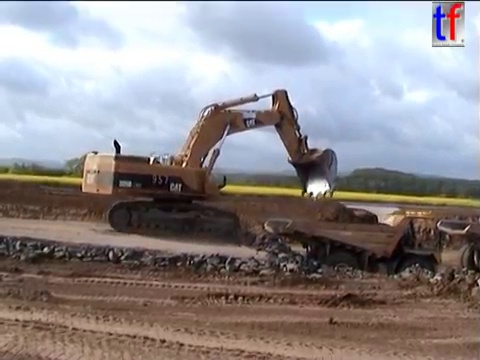excavator: (78, 86, 340, 241)
truck: (262, 209, 443, 297), (434, 216, 480, 279)
